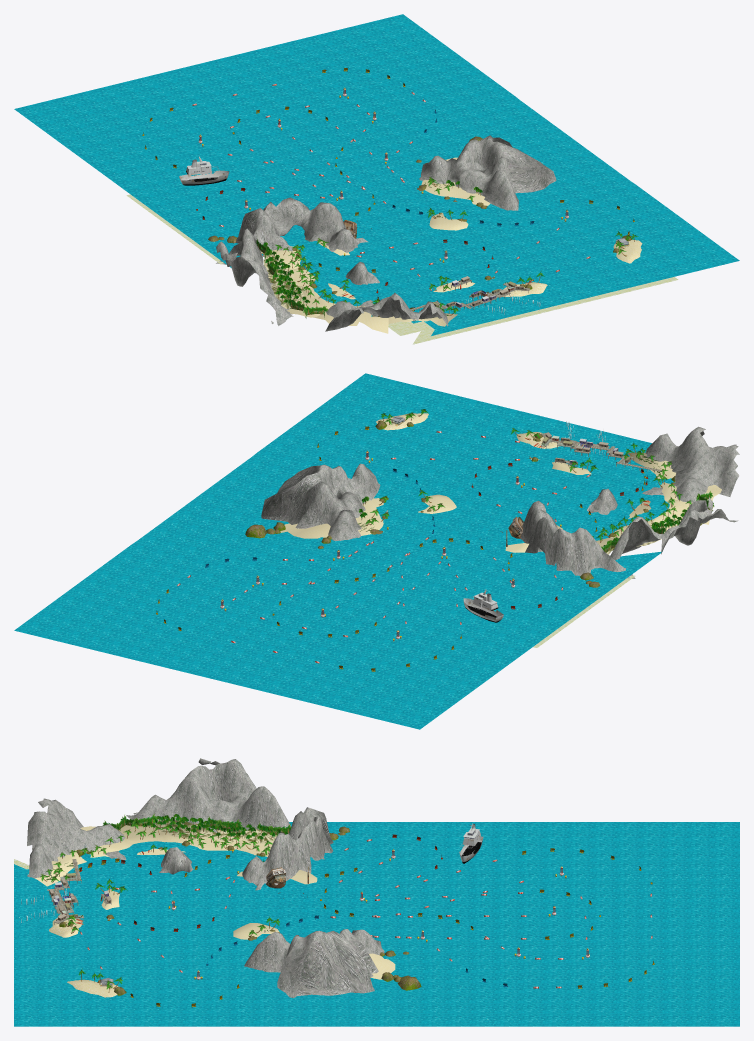
File: Jamaica.glb
The picture shows the model from 3 angles, top to bottom: view 1: azimuth 30°, elevation 25°; view 2: azimuth 150°, elevation 25°; view 3: azimuth 270°, elevation 25°; orthographic projection. The views are drawn at different scales.
Visible parts, largest first — view 1: Untitled* (×8), Untitled** (×8), Untitled (×2), Untitled*** (×7), 16, montagne (ile2)* (×2), 16*, Untitled**** (×3), montagne (ile1) (tunel), fdmarin, Untitled*****, montagne (ile1) (tunel)* (+5 smaller); view 2: Untitled* (×8), Untitled** (×9), Untitled (×2), Untitled*** (×8), 16, montagne (ile2)* (×2), 16*, Untitled**** (×3), montagne (ile1) (tunel), montagne (ile1) (village pecheuNo* (×2), Untitled*****, montagne (ile1) (village pecheuNo (+5 smaller); view 3: Untitled* (×8), Untitled** (×7), Untitled (×2), Untitled*** (×8), 16, montagne (ile2)* (×2), Untitled**** (×3), 16*, montagne central (ile1), montagne (ile1) (village pecheuNo, montagne (ile1) (tunel)*, montagne central (ile1)* (+8 smaller).
Boxes of the visible parts, <box> form: Untitled* (×8): <box>134,14,613,335</box>; Untitled** (×8): <box>309,158,693,306</box>; Untitled (×2): <box>14,80,559,321</box>; Untitled*** (×7): <box>211,133,739,280</box>; 16: <box>400,122,635,221</box>; montagne (ile2)* (×2): <box>419,135,556,210</box>; 16*: <box>366,96,549,157</box>; Untitled**** (×3): <box>161,152,319,241</box>; montagne (ile1) (tunel): <box>216,197,306,264</box>; fdmarin: <box>126,194,678,344</box>; Untitled*****: <box>127,179,210,216</box>; montagne (ile1) (tunel)*: <box>301,202,366,252</box>; Untitled* (×8): <box>14,429,675,698</box>; Untitled** (×9): <box>257,393,669,590</box>; Untitled (×2): <box>295,419,625,729</box>; Untitled*** (×8): <box>288,373,617,604</box>; 16: <box>168,452,413,556</box>; montagne (ile2)* (×2): <box>261,463,380,540</box>; 16*: <box>131,518,322,582</box>; Untitled**** (×3): <box>371,577,608,630</box>; montagne (ile1) (tunel): <box>525,517,635,578</box>; montagne (ile1) (village pecheuNo* (×2): <box>642,444,739,502</box>; Untitled*****: <box>485,605,572,643</box>; montagne (ile1) (village pecheuNo: <box>645,426,708,485</box>; Untitled* (×8): <box>14,853,739,1026</box>; Untitled** (×7): <box>14,841,423,1026</box>; Untitled (×2): <box>14,822,739,932</box>; Untitled*** (×8): <box>14,848,497,1026</box>; 16: <box>237,948,423,1026</box>; montagne (ile2)* (×2): <box>244,929,384,998</box>; Untitled**** (×3): <box>349,822,497,905</box>; 16*: <box>423,948,497,1026</box>; montagne central (ile1): <box>126,758,246,832</box>; montagne (ile1) (village pecheuNo: <box>27,811,96,878</box>; montagne (ile1) (tunel)*: <box>242,832,310,887</box>; montagne central (ile1)*: <box>227,759,290,829</box>.
Bounding box in the file's own units: 327 × 49.8 × 450.
37 materials, 36 textured.
